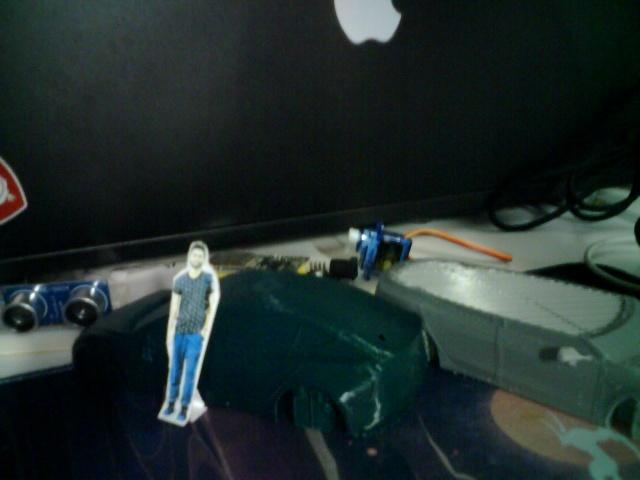person: (158, 241, 226, 433)
